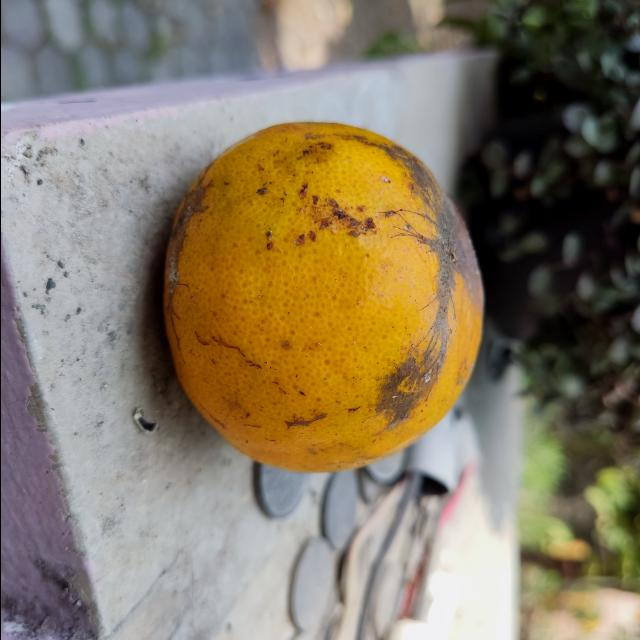orange: (160, 122, 485, 476)
